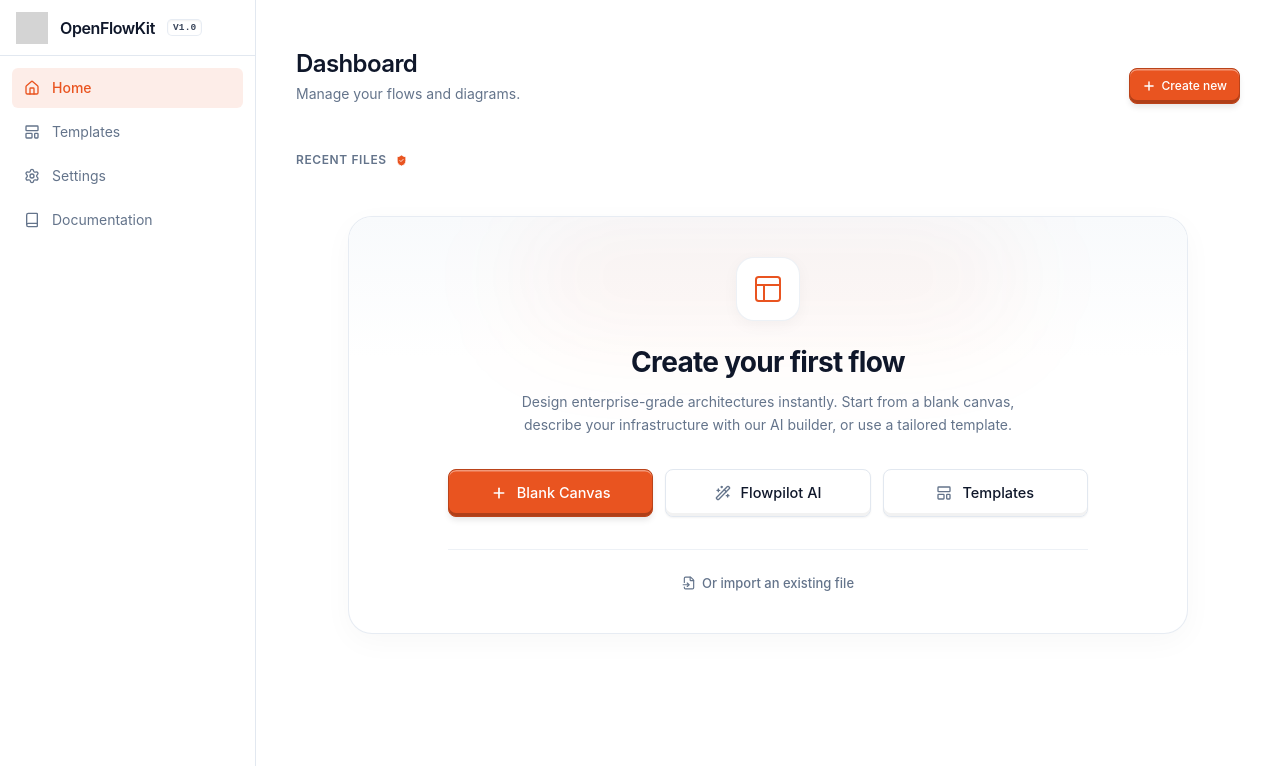
Test: HomePage integration flows › switches between home, templates, and settings views via sidebar
The image size is (1280, 766).
Click the button with test id "sidebar-templates": (128, 132) [12,112,243,152]
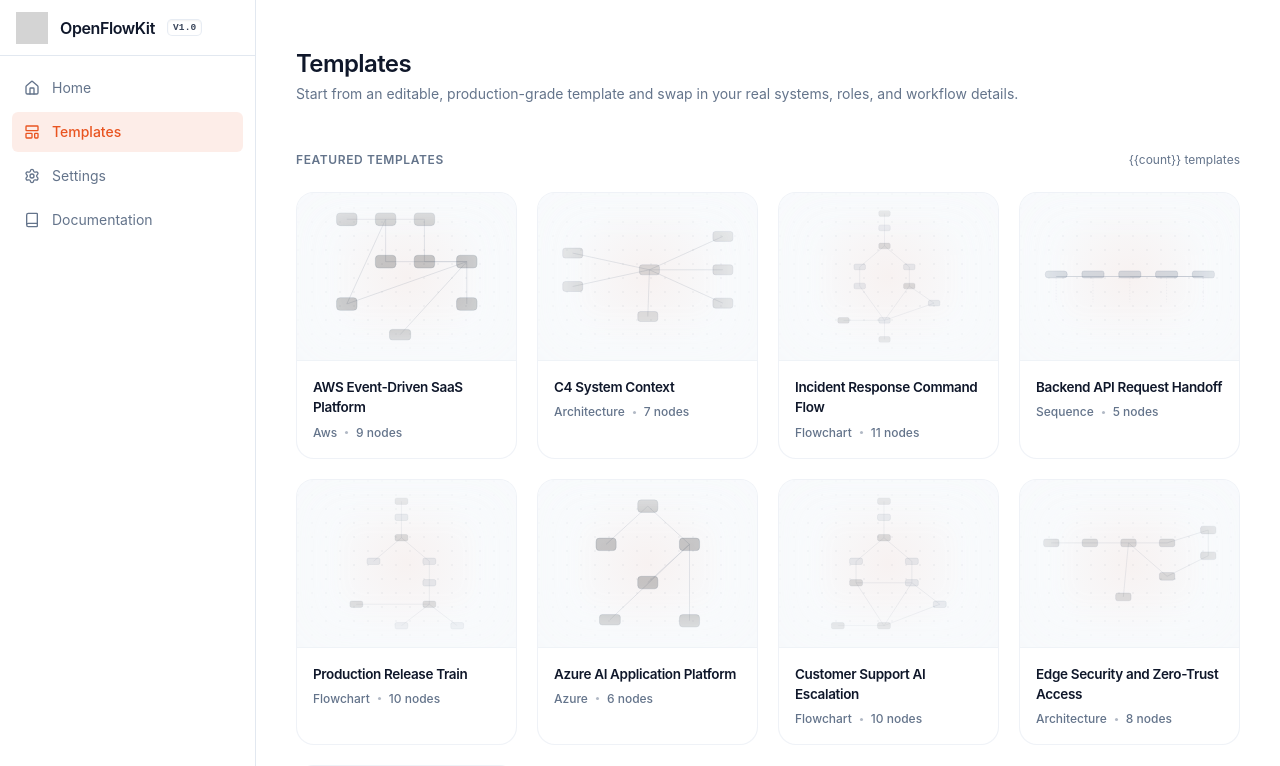
Expected: the heading "Templates" is shown, [296,49,411,78]
Expected: the heading "Featured Templates" is shown, [296,152,444,168]
Click the button with test id "sidebar-settings": (128, 176) [12,156,243,196]
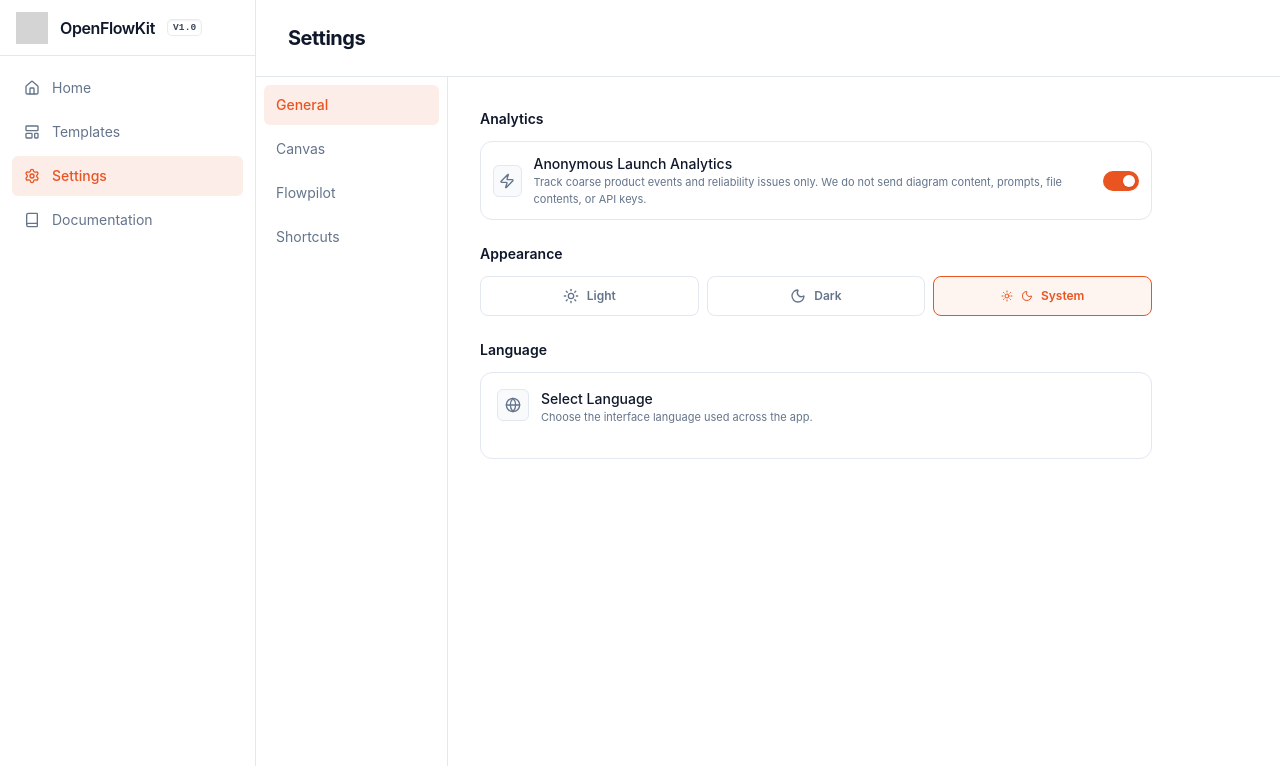
Expected: the heading "Settings" is shown, [288,26,365,50]
Expected: the text "Flowpilot" is shown, [276,184,336,201]
